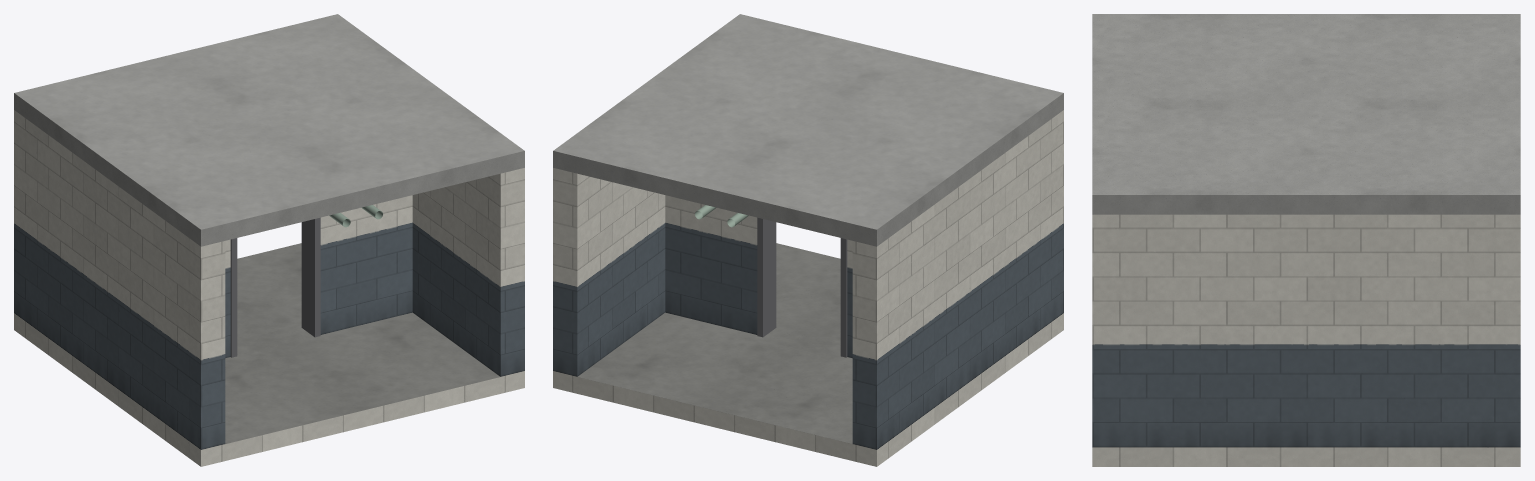
File: Corridor_Basement_Door_NoLight.glb
3 views of the same model, side by side, from view 1: azimuth 30°, elevation 25°; view 2: azimuth 150°, elevation 25°; view 3: azimuth 270°, elevation 25° (orthographic). The views are drawn at different scales.
Visible parts, largest first — view 1: Corridor_Basement_Door_NoLight, Corridor_Basement_Door_NoLight_Ceiling; view 2: Corridor_Basement_Door_NoLight, Corridor_Basement_Door_NoLight_Ceiling; view 3: Corridor_Basement_Door_NoLight, Corridor_Basement_Door_NoLight_Ceiling.
Part boxes in pixels (<box>): Corridor_Basement_Door_NoLight: <box>14,110,524,466</box>; Corridor_Basement_Door_NoLight_Ceiling: <box>14,14,524,246</box>; Corridor_Basement_Door_NoLight: <box>553,110,1063,466</box>; Corridor_Basement_Door_NoLight_Ceiling: <box>553,14,1063,246</box>; Corridor_Basement_Door_NoLight: <box>1092,214,1520,466</box>; Corridor_Basement_Door_NoLight_Ceiling: <box>1092,14,1520,214</box>.
Bounding box in the file's own units: 4 × 2.8 × 4.
6 materials, 3 textured.
